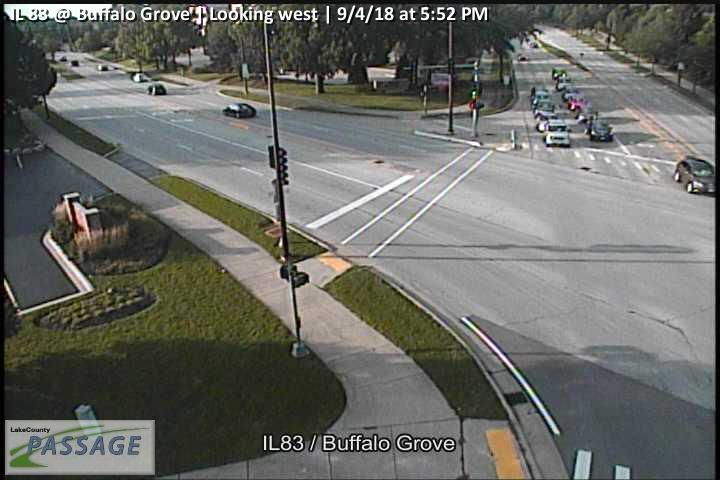SUV: (673, 159, 716, 196), (542, 119, 572, 148), (588, 118, 613, 141)
Sedan: (222, 102, 257, 119), (146, 82, 166, 96)
